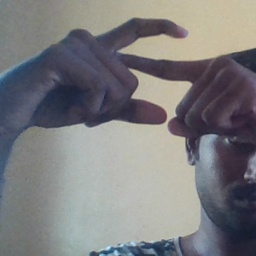E: (87, 12, 195, 132)
